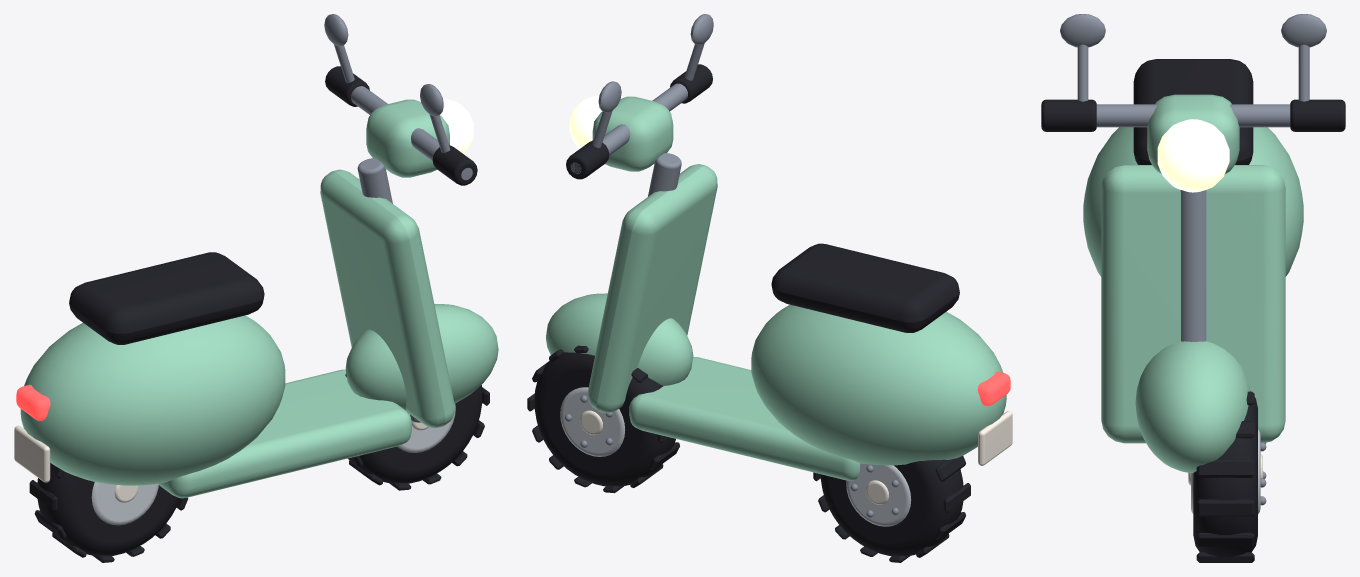
Rendered from scooter.glb.
3 renders of one model, left to right at view 1: azimuth 30°, elevation 25°; view 2: azimuth 150°, elevation 25°; view 3: azimuth 270°, elevation 25°, orthographic. The views are drawn at different scales.
Parts seen in each view (by area): view 1: scooter; view 2: scooter; view 3: scooter.
Part boxes in pixels (x1,y1,x2,y2): scooter: (14,14,498,562); scooter: (527,14,1012,562); scooter: (1041,14,1345,562).
Bounding box in the file's own units: 1.36 × 1.24 × 0.66.
1 material, 1 textured.
